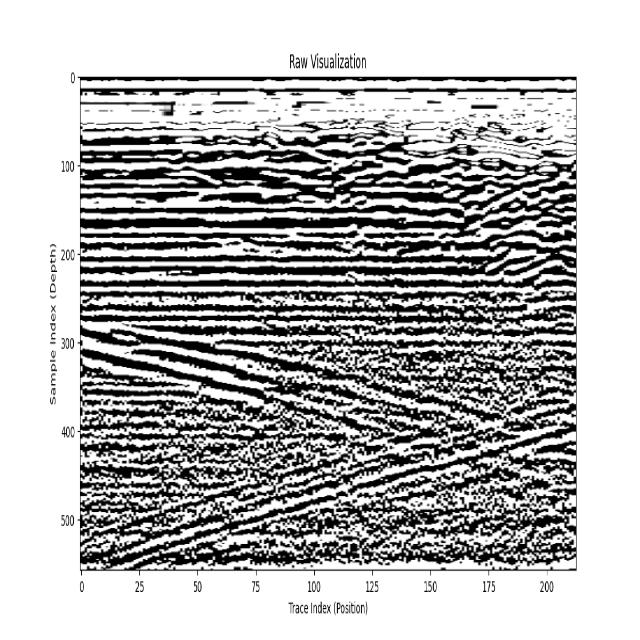anomaly: (81, 304, 576, 564)
